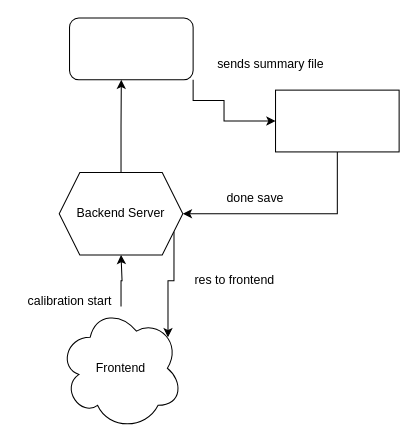
Image size: 417x448. Some labels were removed from this diagram. The shapes that lost their labels are listed below. From the top down, each one's centre as x and y in pixels, then its label:
At point (130, 48): "mqtt_table".
At point (336, 120): "save axis adjustment data from file".
